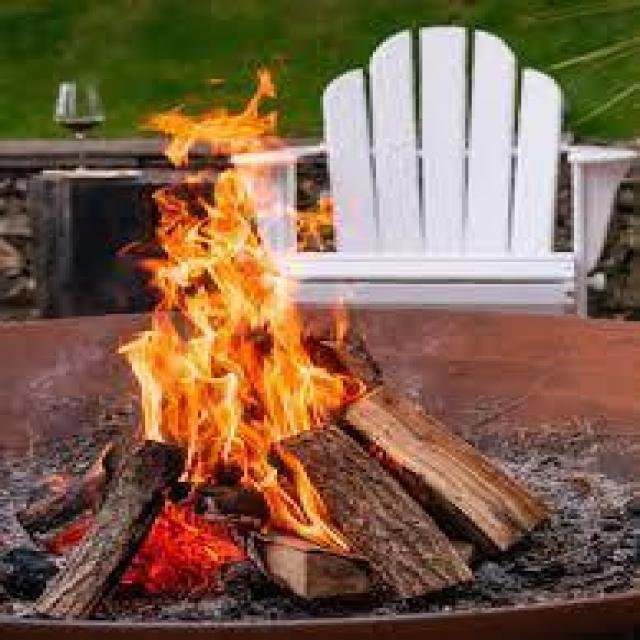Fire: (36, 62, 516, 550)
